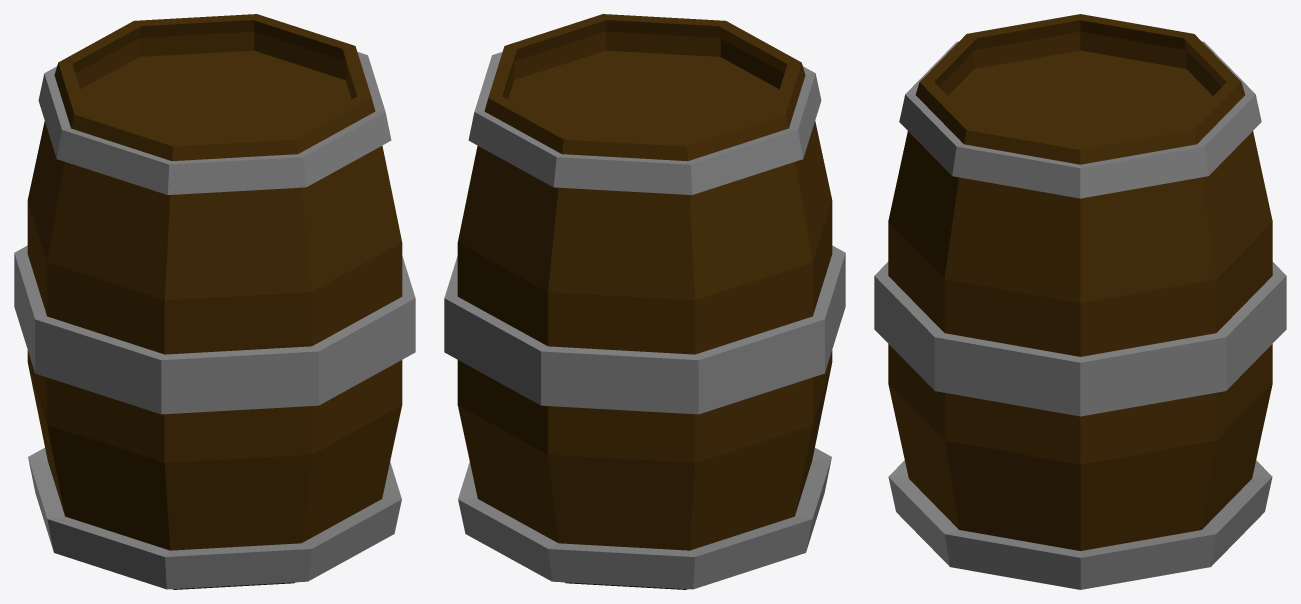
The model's file is Barrel.glb.
3 views of the same model, side by side, from view 1: azimuth 30°, elevation 25°; view 2: azimuth 150°, elevation 25°; view 3: azimuth 270°, elevation 25° (orthographic).
Visible parts, largest first — view 1: Barrel.002; view 2: Barrel.002; view 3: Barrel.002.
Part boxes in pixels (x1,y1,x2,y2): Barrel.002: (14, 14, 415, 589); Barrel.002: (444, 14, 845, 589); Barrel.002: (874, 14, 1286, 589).
Size of the model in its own units: 0.5399 by 0.6386 by 0.5399.
